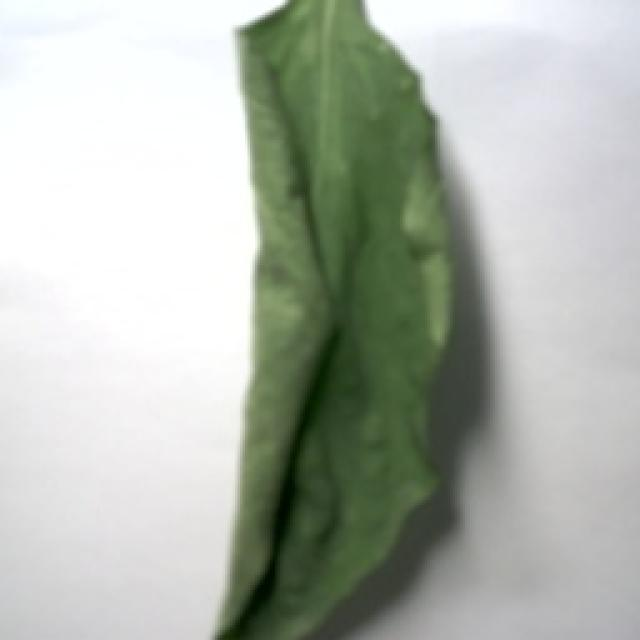Leaf: (206, 1, 469, 640)
